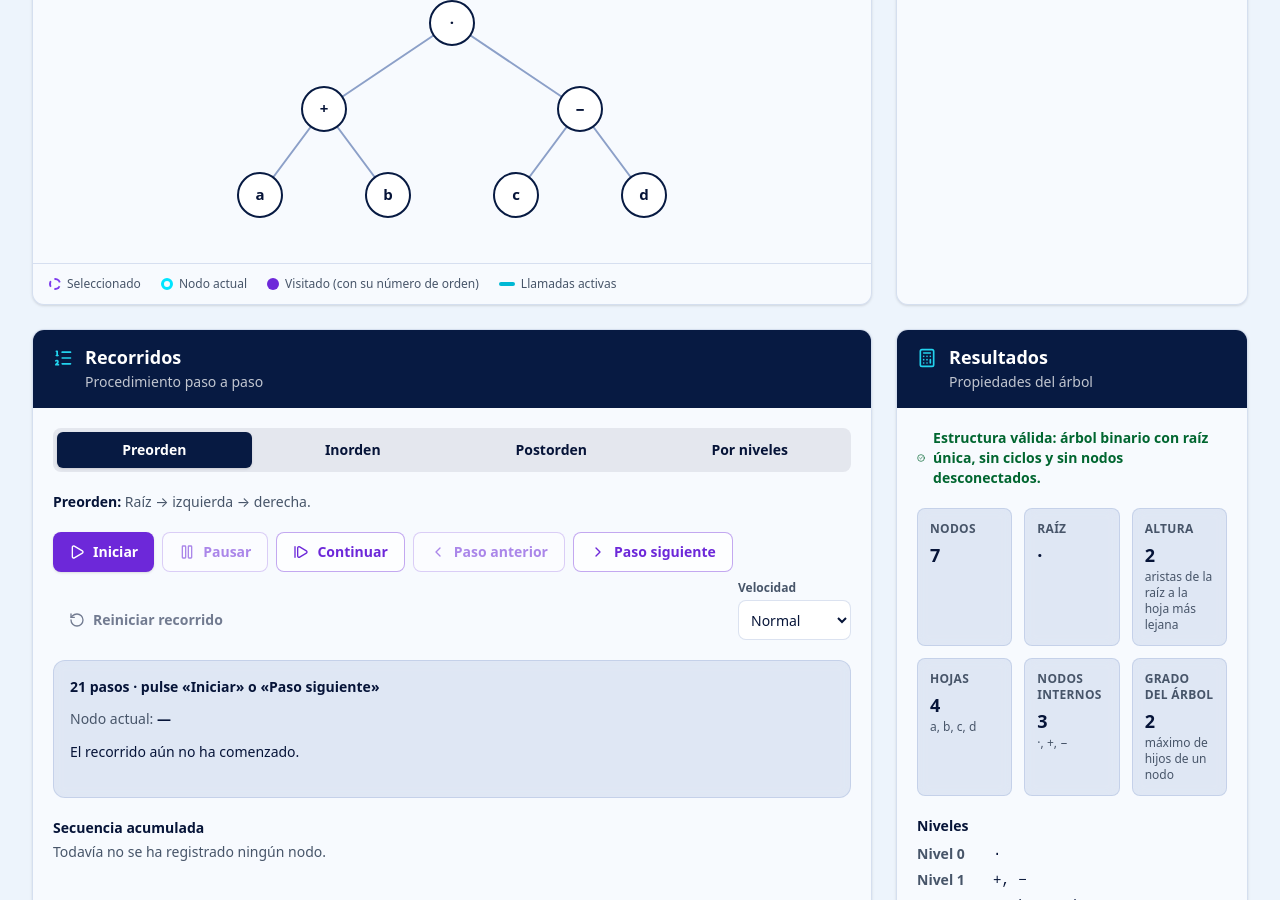
Scenario: módulo de árboles binarios › recorre en inorden paso a paso hasta el resultado final
Later steps or results of the test are not shown.
(page scrolled)
What coordinates should you click on to do the following:
click the tab "Inorden"
I would click on:
 (353, 450)
Its box is [256,432,450,468].
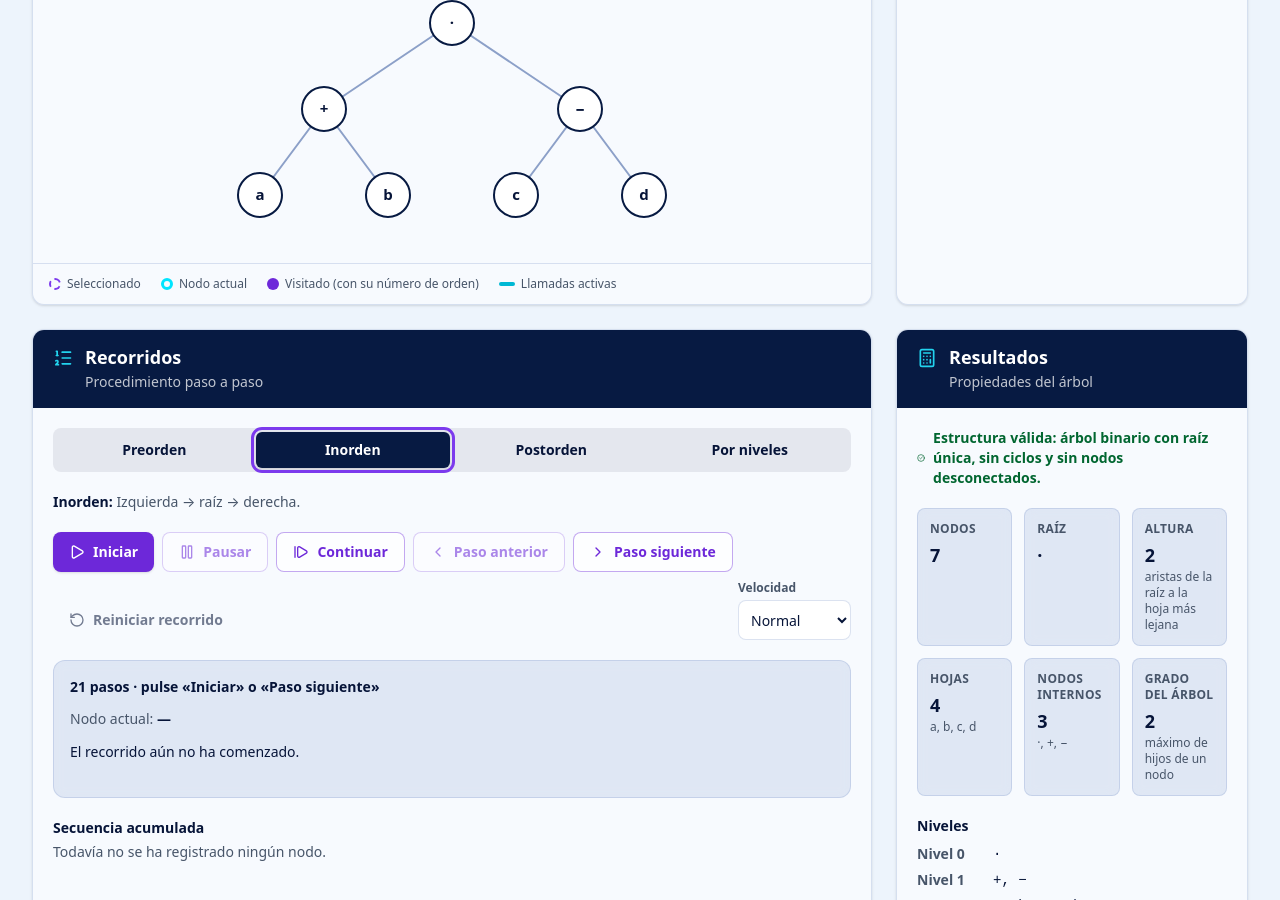
Check: the text "21 pasos · pulse «Iniciar» o «Paso siguiente»" is shown, box [70,677,380,697]
What coordinates should you click on to do the following:
click the button "Paso siguiente"
I would click on:
 (653, 552)
Its box is [573,532,733,572].
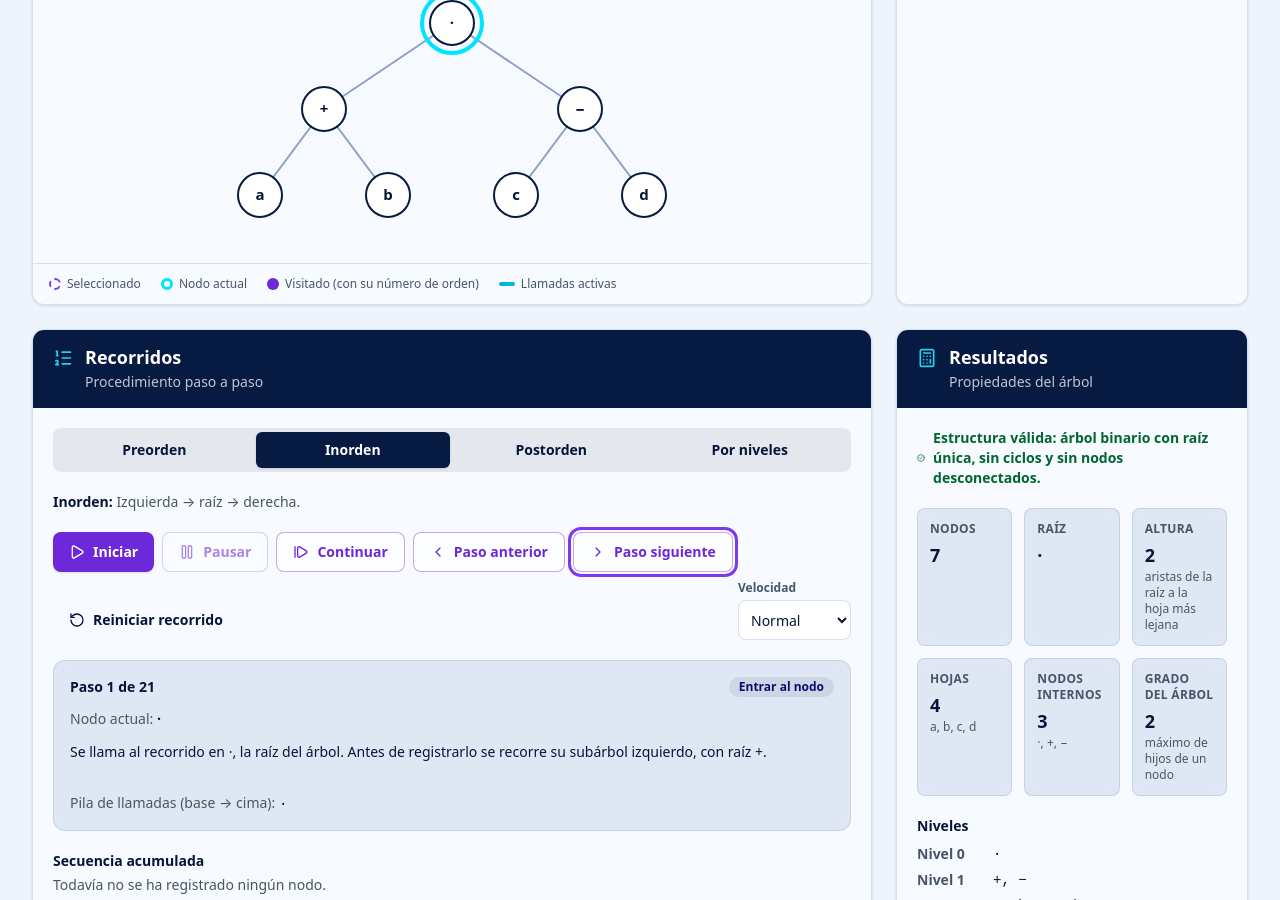
Check: the text with test id "current-node" reads "·", box [157,709,161,728]
Check: the text with test id "step-explanation" shows "Se llama al recorrido en ·, la raíz del árbol.", box [70,742,767,761]
What coordinates should you click on to do the following:
click the button "Paso siguiente"
I would click on:
 (653, 552)
Its box is [573,532,733,572].
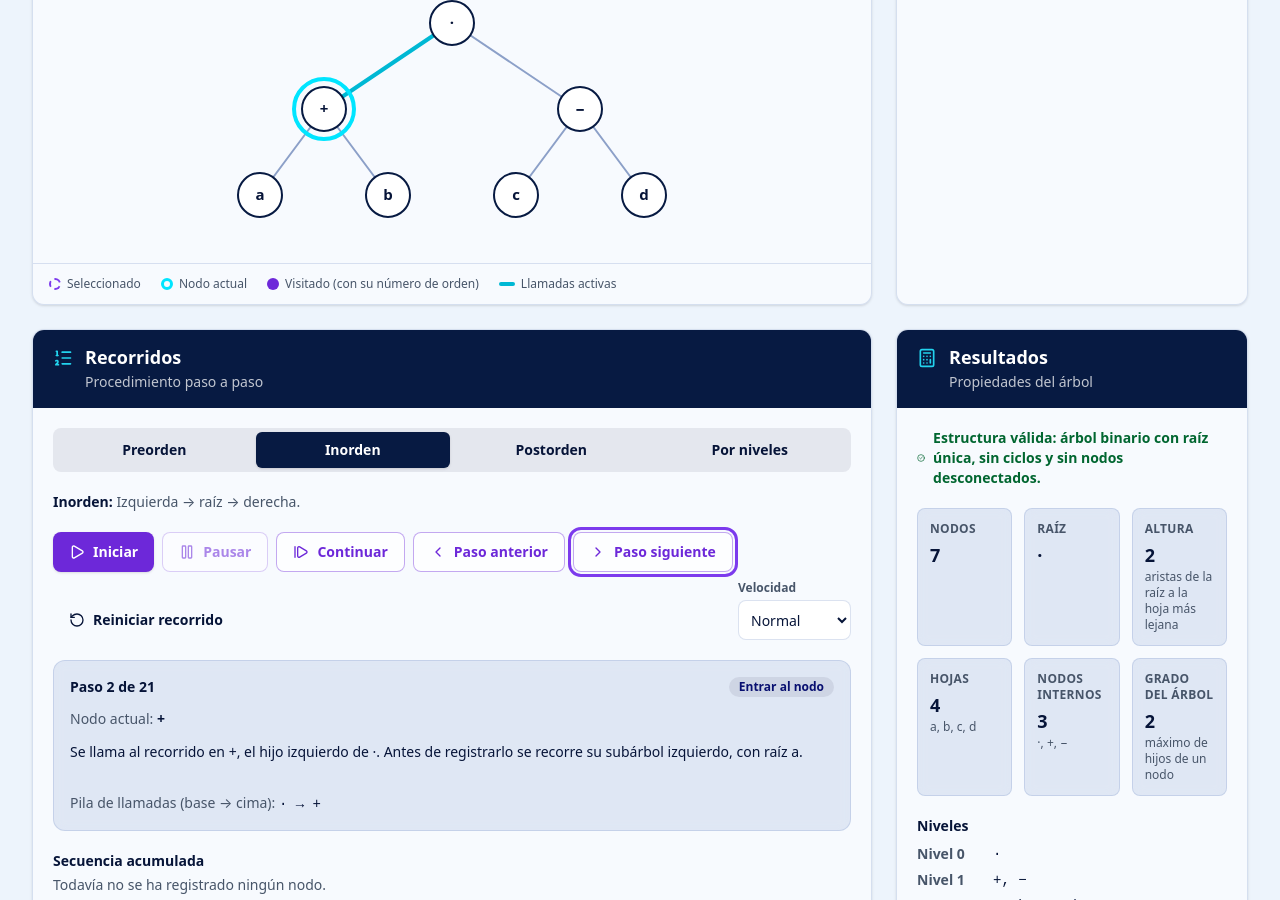
What coordinates should you click on to do the following:
click the button "Paso siguiente"
I would click on:
 (653, 552)
Its box is [573,532,733,572].
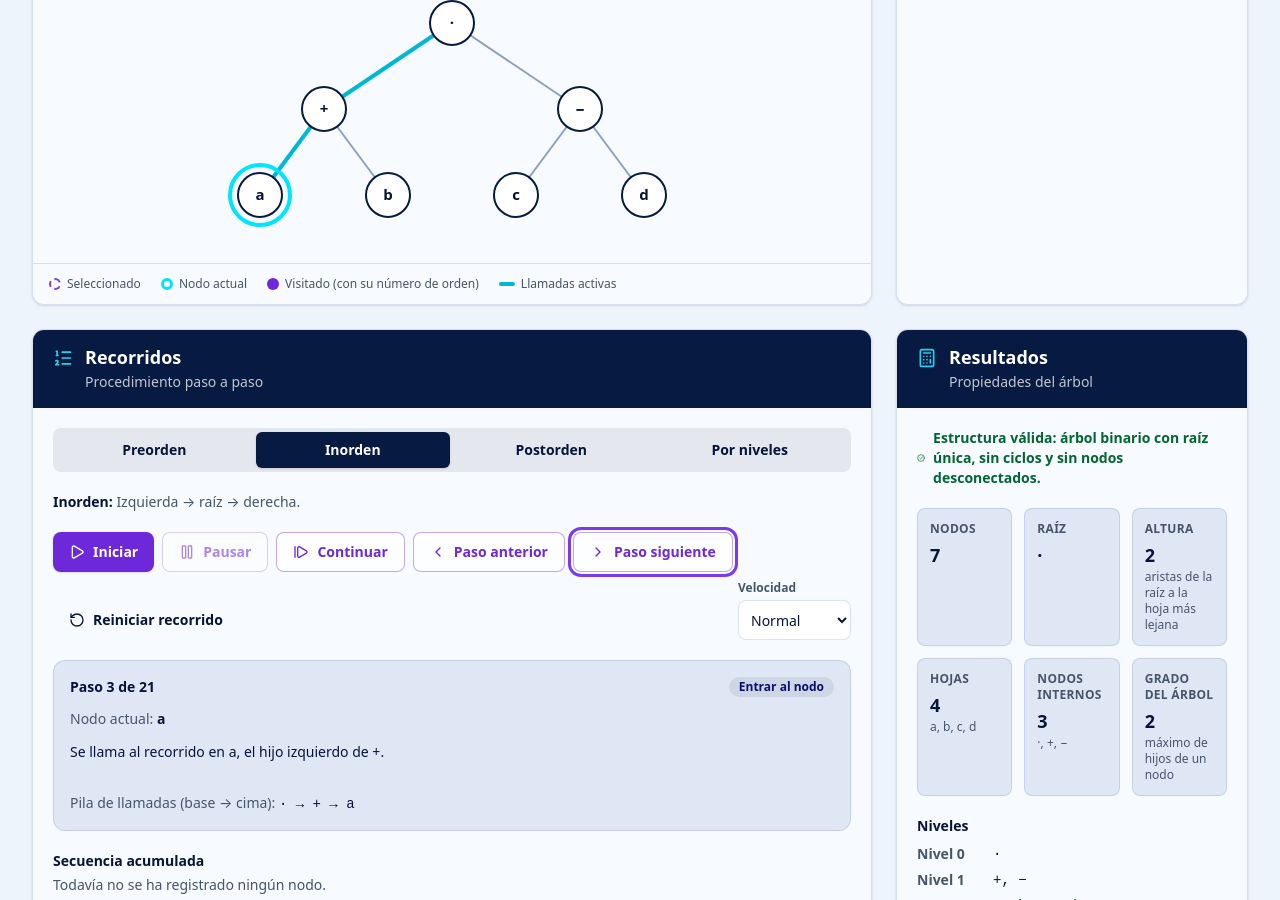
What coordinates should you click on to do the following:
click the button "Paso siguiente"
I would click on:
 (653, 552)
Its box is [573,532,733,572].
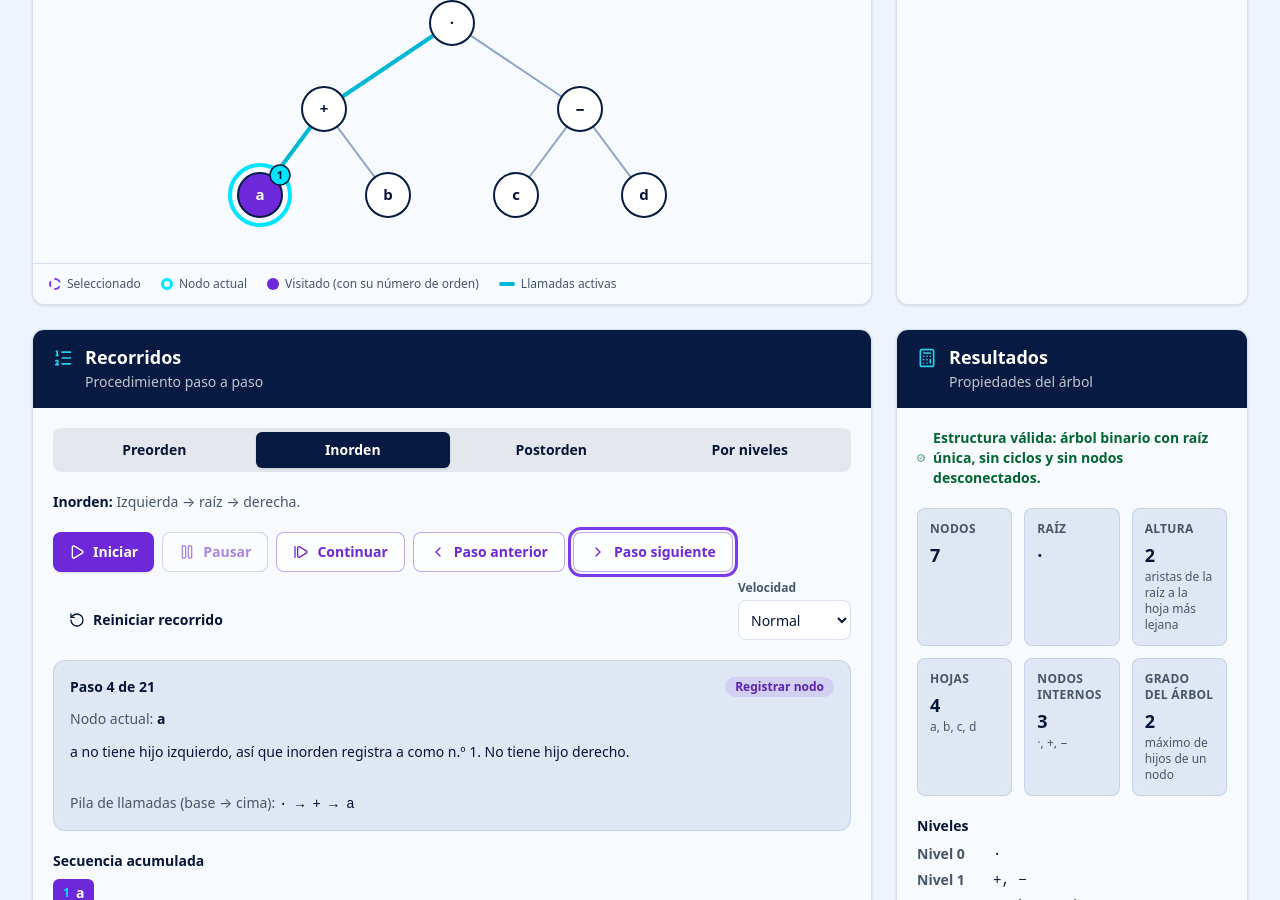
Check: the text with test id "current-node" reads "a", box [157,709,166,728]
What coordinates should you click on to do the following:
click the button "Paso anterior"
I would click on:
 (489, 552)
Its box is [413,532,565,572].
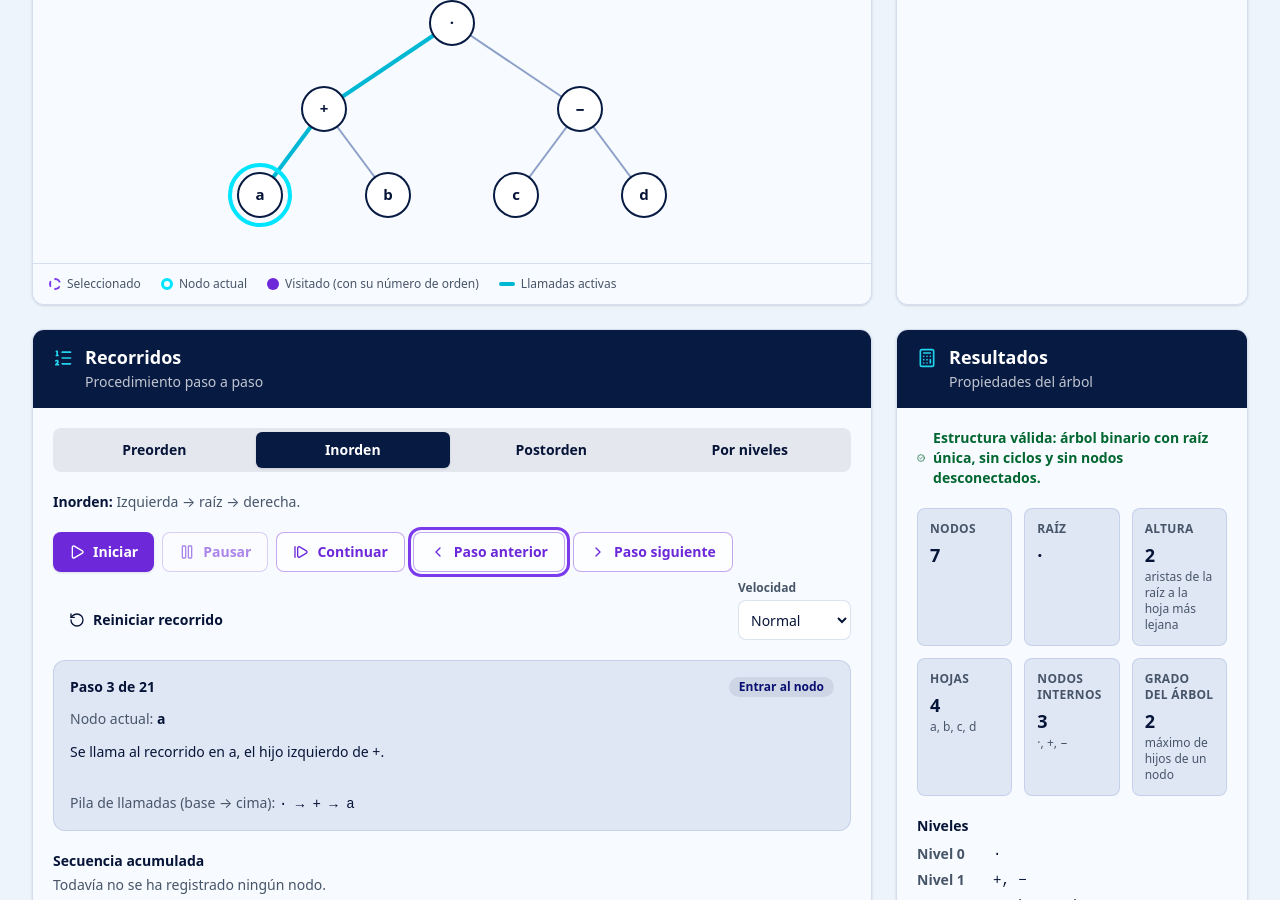
Check: the text "Todavía no se ha registrado ningún nodo." is shown, box [53,875,326,894]
